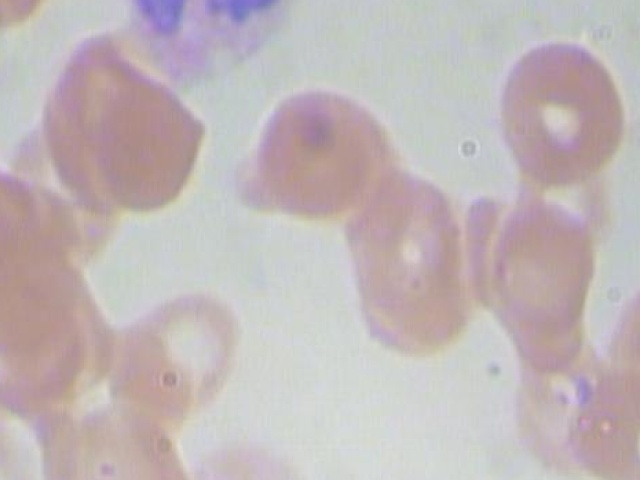RBC: (348, 157, 477, 366), (490, 29, 634, 202), (248, 66, 391, 239), (473, 184, 606, 349), (85, 70, 218, 235), (106, 265, 239, 429), (0, 186, 90, 359), (43, 388, 207, 480), (559, 351, 640, 480), (177, 421, 324, 480), (0, 375, 76, 480), (612, 241, 640, 404), (0, 0, 72, 43)
WBC: (106, 0, 329, 88)
